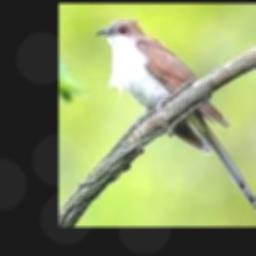Cuckoo: (96, 19, 256, 211)
